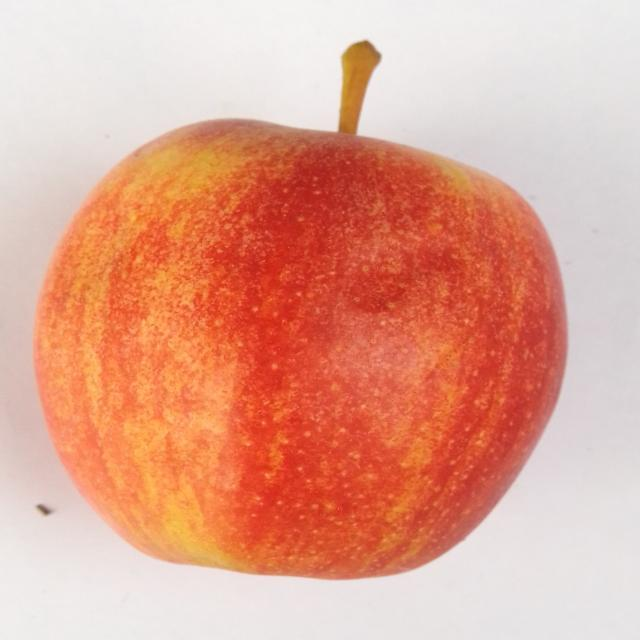Fresh Apple: (36, 120, 572, 592)
